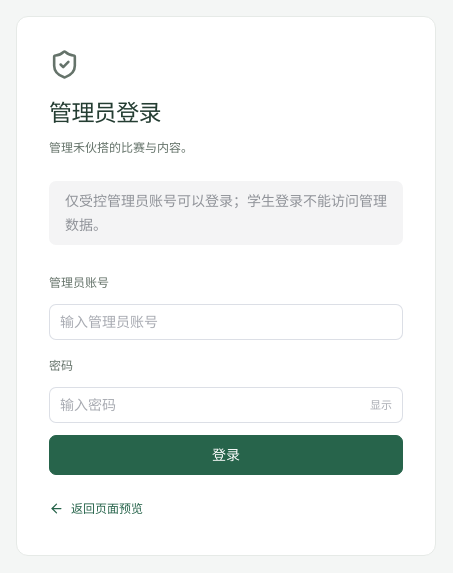
Test: 管理员登录前端预览 › 密码显隐按钮提供键盘可用的操作及状态说明
Type "secret" into the password field with id "admin-password" at (211, 405), box 60,390 -> 362,420
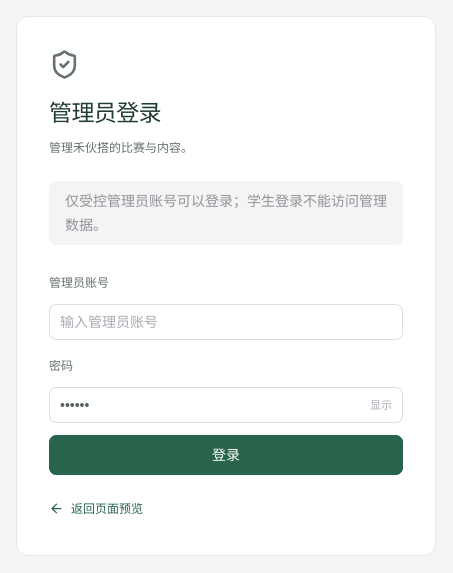
Click the button with aria-label "显示密码" at (381, 405), box 370,389 -> 392,421
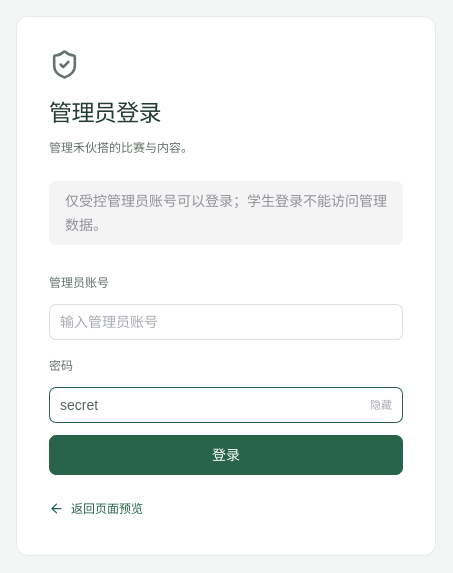
Now the field with id "admin-password" shows its text, box 60,390 -> 362,420
